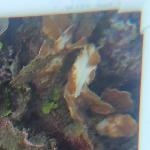dead: (1, 17, 135, 147)
